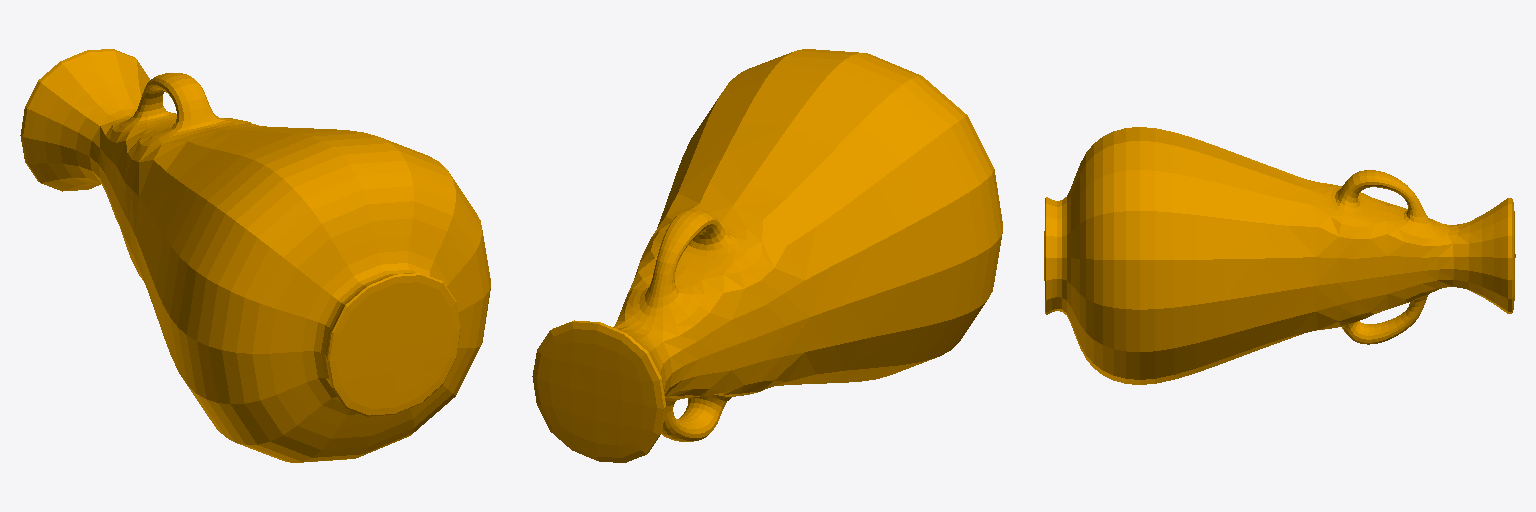
The robot description file, URDF, robot "11":
<?xml version="1.0" ?>
<robot name="11">
  <link name="body">
    <visual>
      <geometry>
        <mesh filename="../shapes/11.obj"/>
      </geometry>
    </visual>
    <collision>
      <geometry>
        <mesh filename="../shapes/11.obj"/>
      </geometry>
    </collision>
  </link>
</robot>

--- Render facts (derived) ---
Views: 3 orthographic renders of the robot side by side, from view 1: azimuth 30°, elevation 25°; view 2: azimuth 150°, elevation 25°; view 3: azimuth 270°, elevation 25°.
Robot: 11 — 1 links, 0 joints (none); root link body; default pose: all joints at 0.
Links seen in each view (by area): view 1: body; view 2: body; view 3: body.
Link boxes in pixels (bbox=[...]): body: bbox=[20, 49, 490, 462]; body: bbox=[532, 49, 1002, 462]; body: bbox=[1044, 127, 1515, 384].
Bounding box of the posed robot: 5.6 × 10.36 × 5.6 m (x, y, z).
1 mesh visuals loaded from 1 distinct referenced files (1 OBJ).